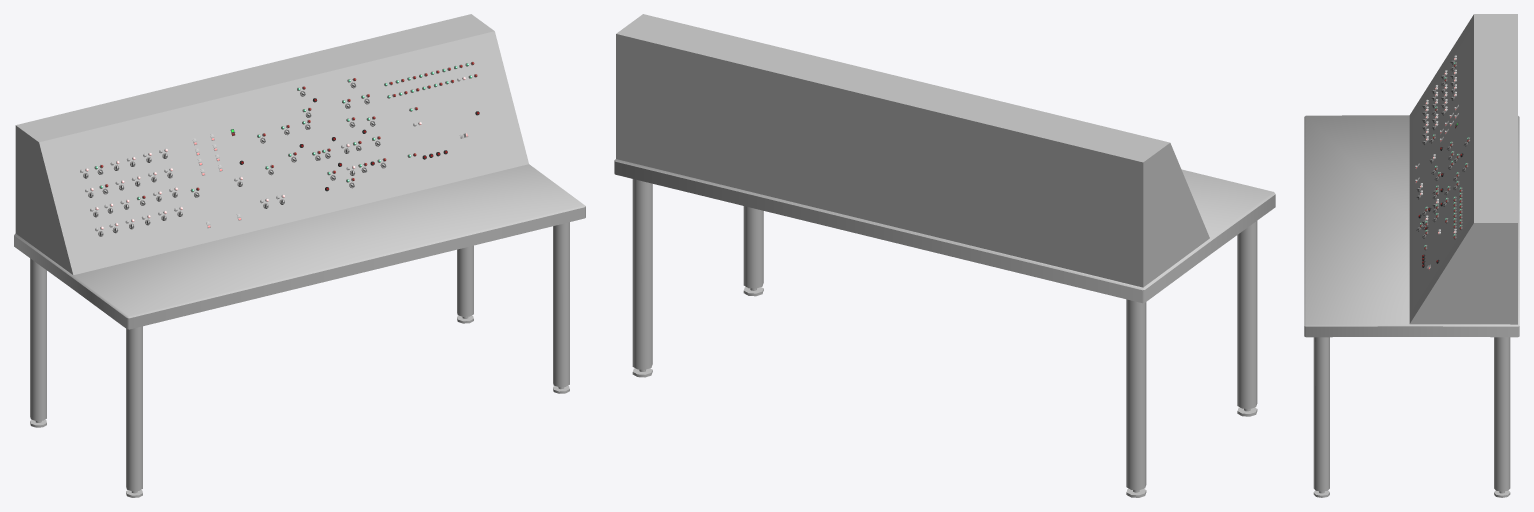
Rendered from SM_Table_ControlPanel_02.fbx.
3 views of the same model, side by side, from view 1: azimuth 30°, elevation 25°; view 2: azimuth 150°, elevation 25°; view 3: azimuth 270°, elevation 25° (orthographic). The views are drawn at different scales.
Parts seen in each view (by area): view 1: SM_Table_ControlPanel_02_LOD0; view 2: SM_Table_ControlPanel_02_LOD0; view 3: SM_Table_ControlPanel_02_LOD0.
Part boxes in pixels (bbox=[...]): SM_Table_ControlPanel_02_LOD0: bbox=[14, 14, 585, 497]; SM_Table_ControlPanel_02_LOD0: bbox=[614, 14, 1275, 497]; SM_Table_ControlPanel_02_LOD0: bbox=[1304, 14, 1519, 497].
Bounding box in the file's own units: 192 × 83.2 × 118.
